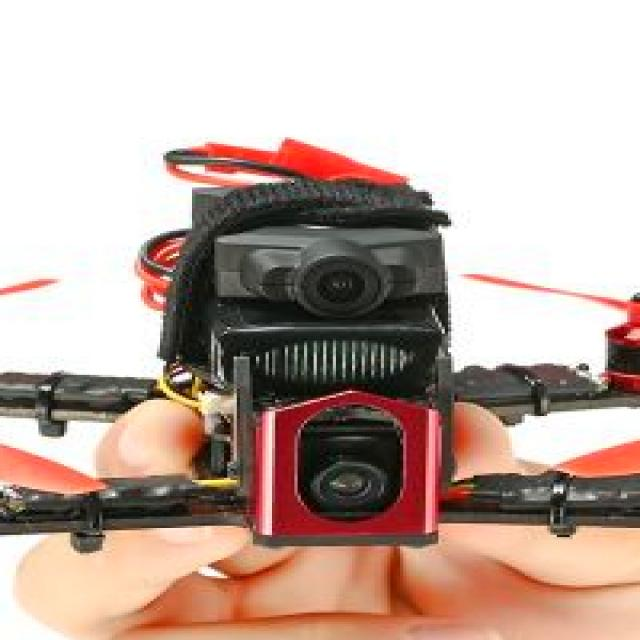drone: (0, 185, 640, 578)
